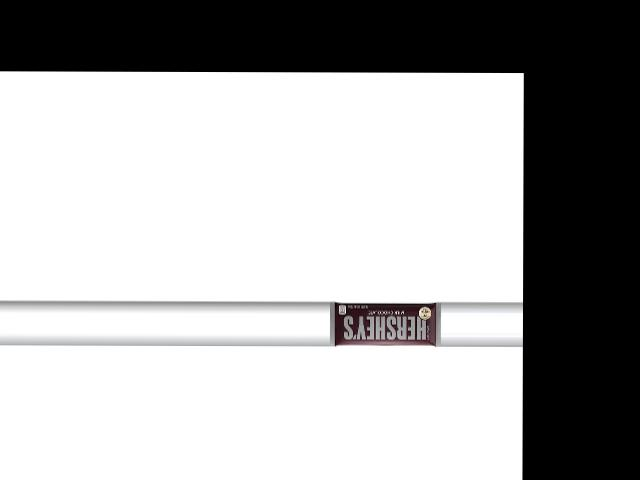chocolate: (329, 296, 438, 344)
